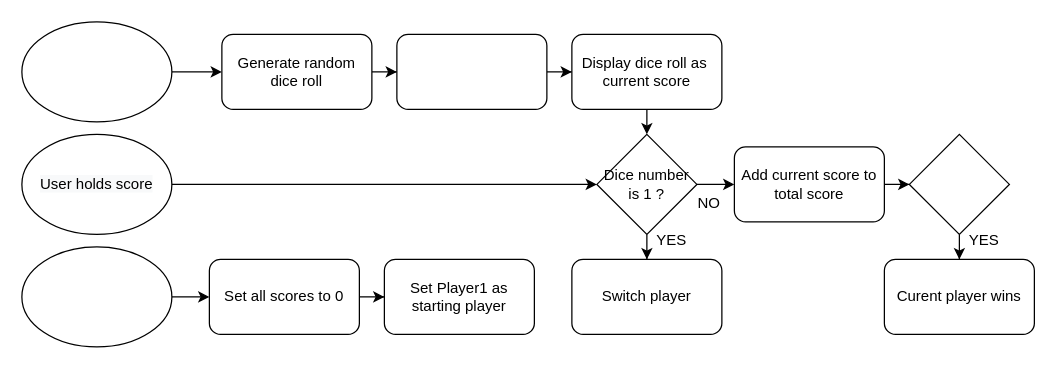
This 1056x369 diagram has some shape labels left out. Here are the shapes that lost their labels. From the top down, the centre of each, then its label:
(x=96, y=71): User rolls a dice
(x=471, y=71): Display dice roll
(x=958, y=183): total score >=100
(x=96, y=296): User resets game
